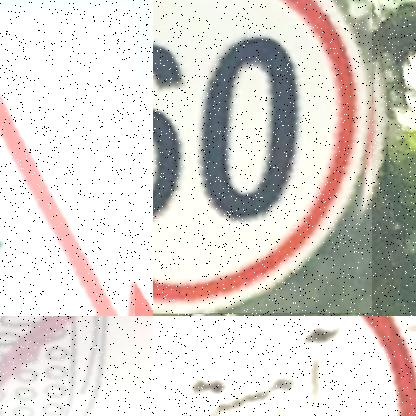No Mobile Allowed: (0, 316, 153, 416)
Slow: (153, 316, 416, 416)
Speed Limit -60 kmph-: (153, 0, 372, 313)
U-Turn: (0, 88, 127, 316)
